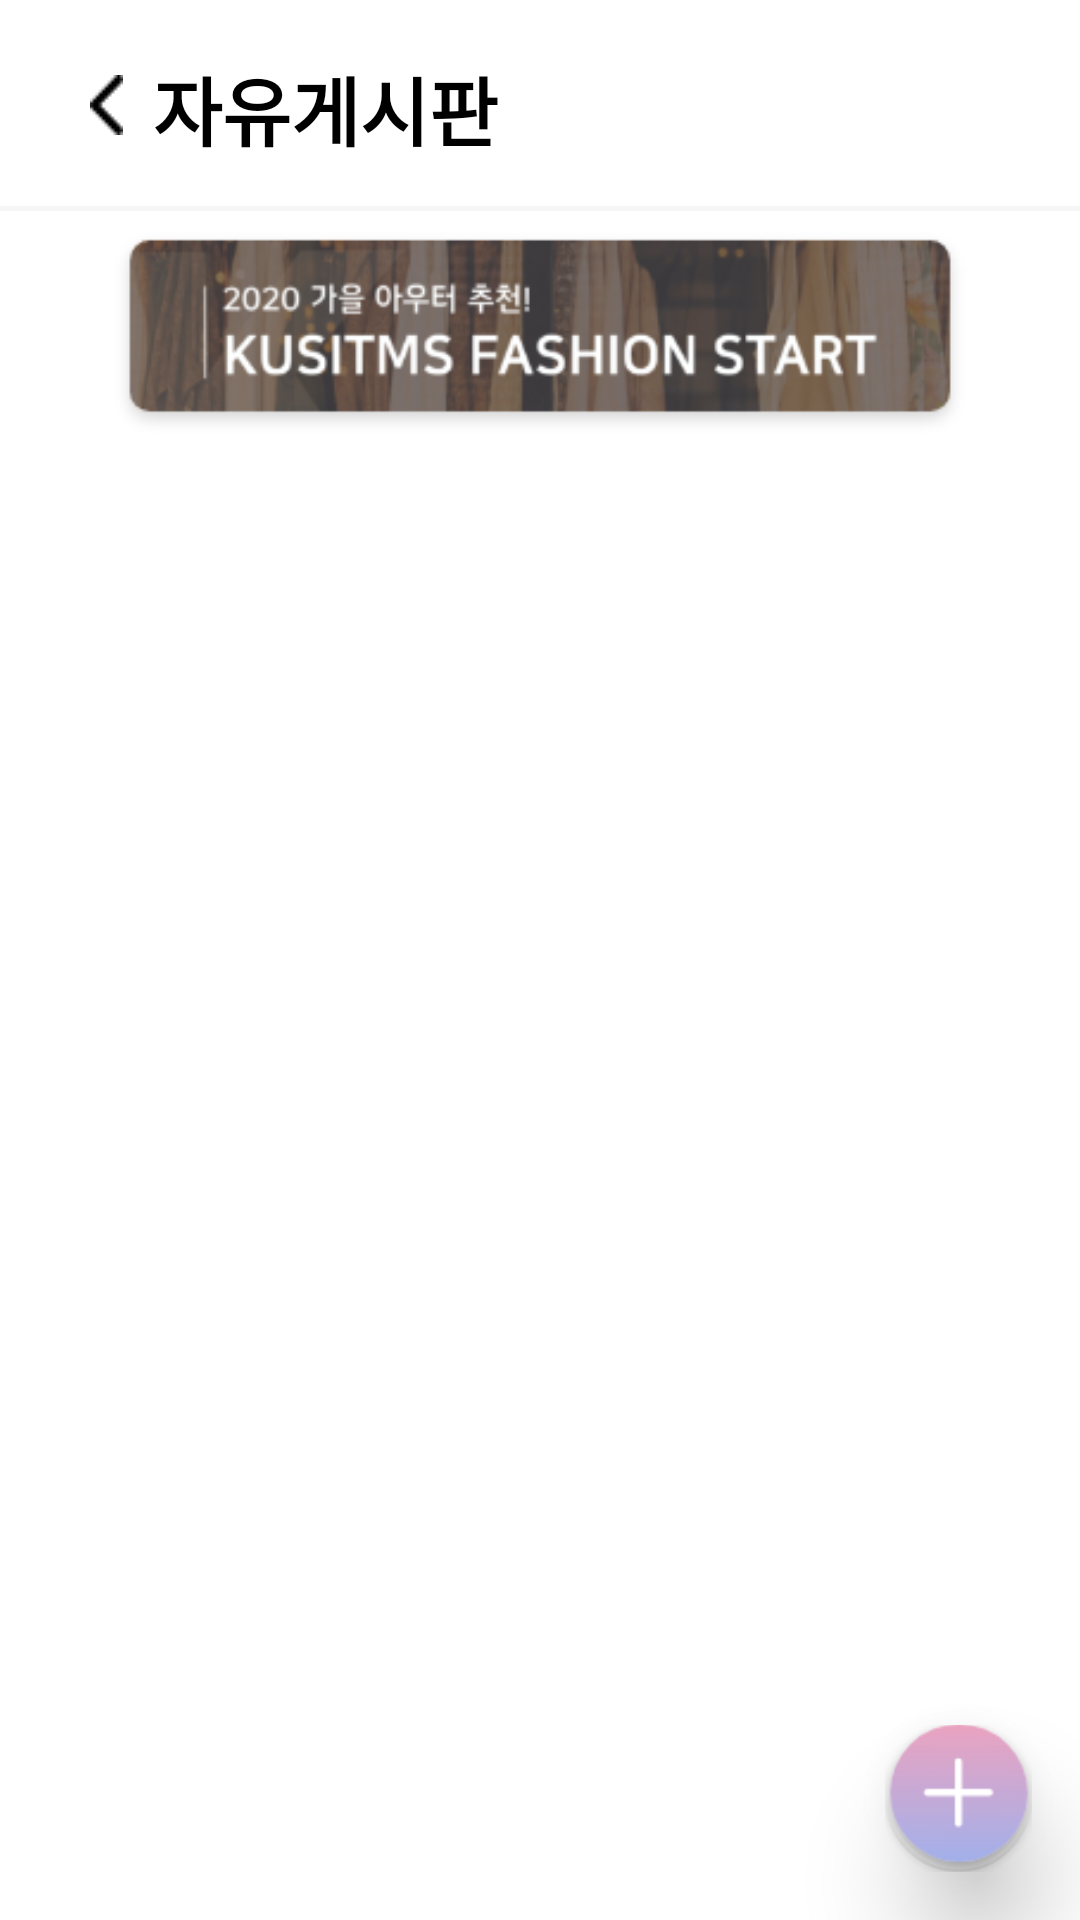

Locate icon controls on the screen. Image size 1080px x 1920px, boxes as (x1, y1, x2, y2).
arrow left: (90, 75, 123, 135)
plus: (886, 1725, 1032, 1872)
